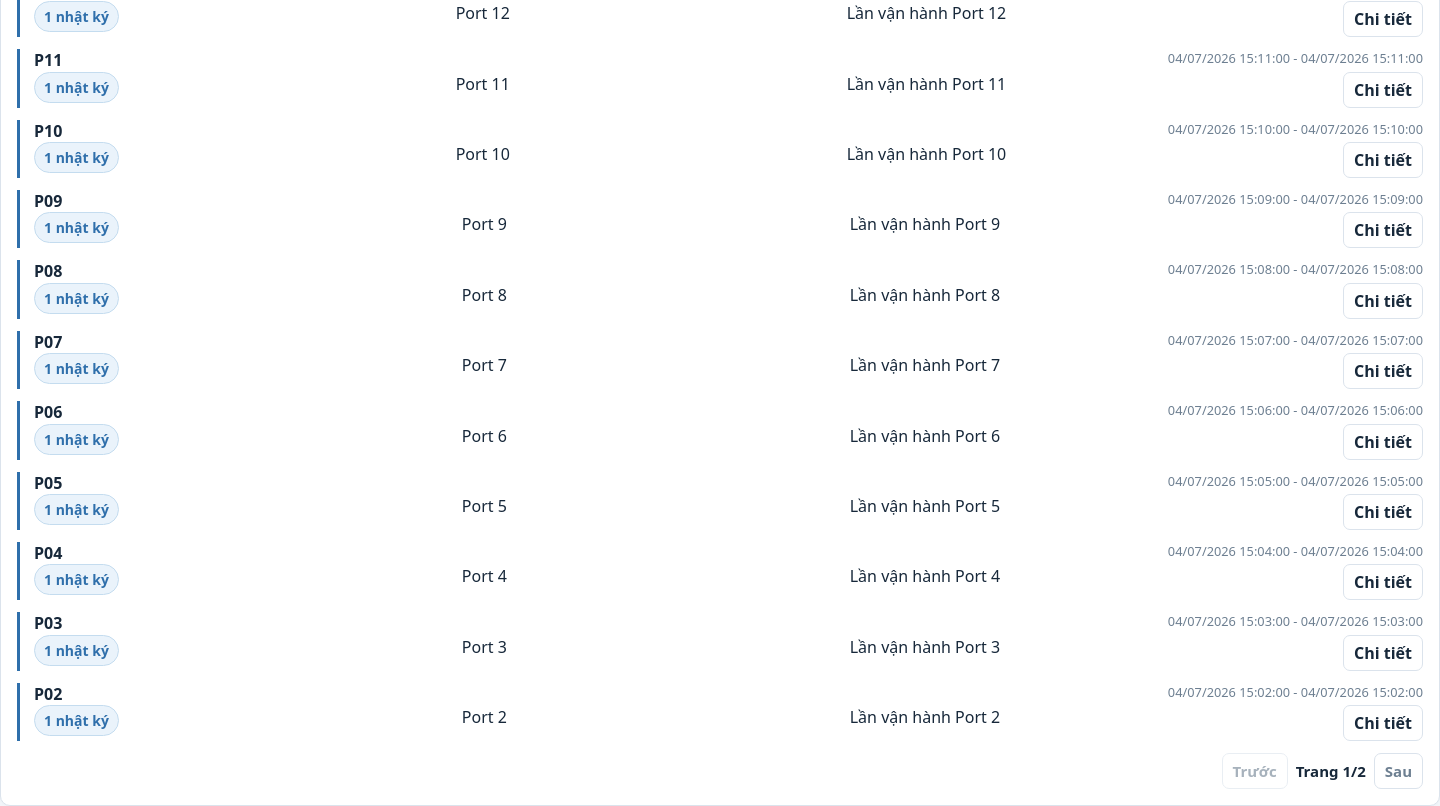
LogPage › paginates grouped operation runs fifteen at a time
The image size is (1440, 806).
(page scrolled)
Expected: the text "Trang 1/2" is shown, [1296, 760, 1366, 782]
Expected: the text "P02" is shown, [34, 683, 62, 705]
Click the button "Sau".
click(1398, 771)  # box [1374, 753, 1423, 789]
(page scrolled)
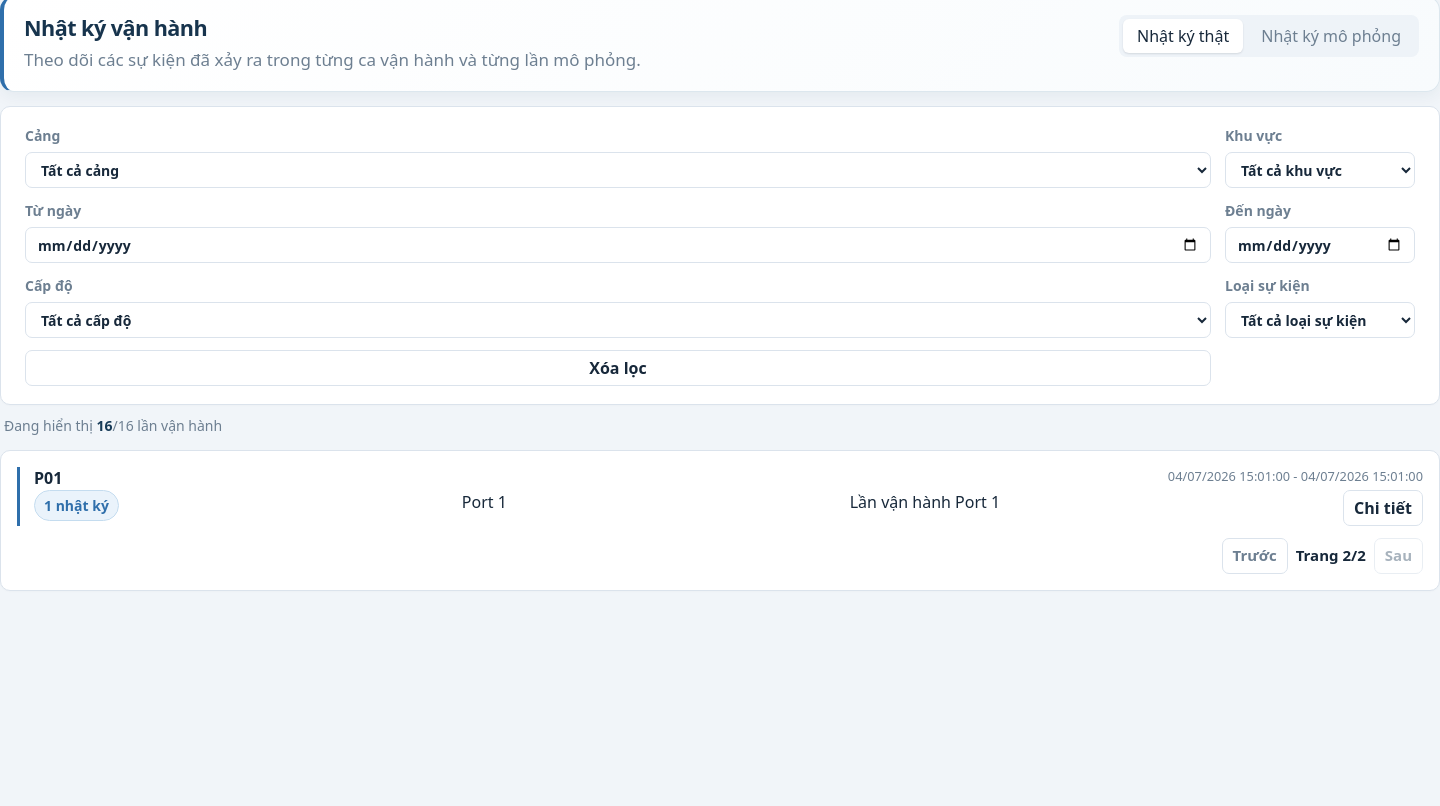
Expected: the text "Trang 2/2" is shown, [1296, 544, 1366, 567]
Expected: the text "P01" is shown, [34, 467, 62, 490]
